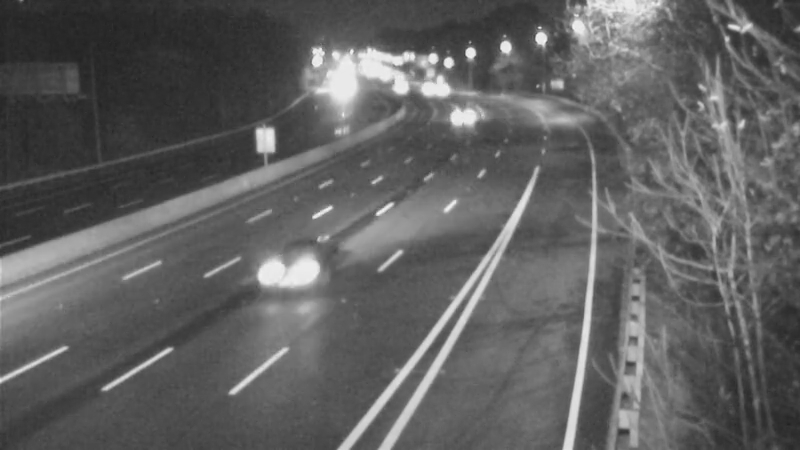vehicle: (258, 225, 338, 305), (432, 84, 482, 134)
